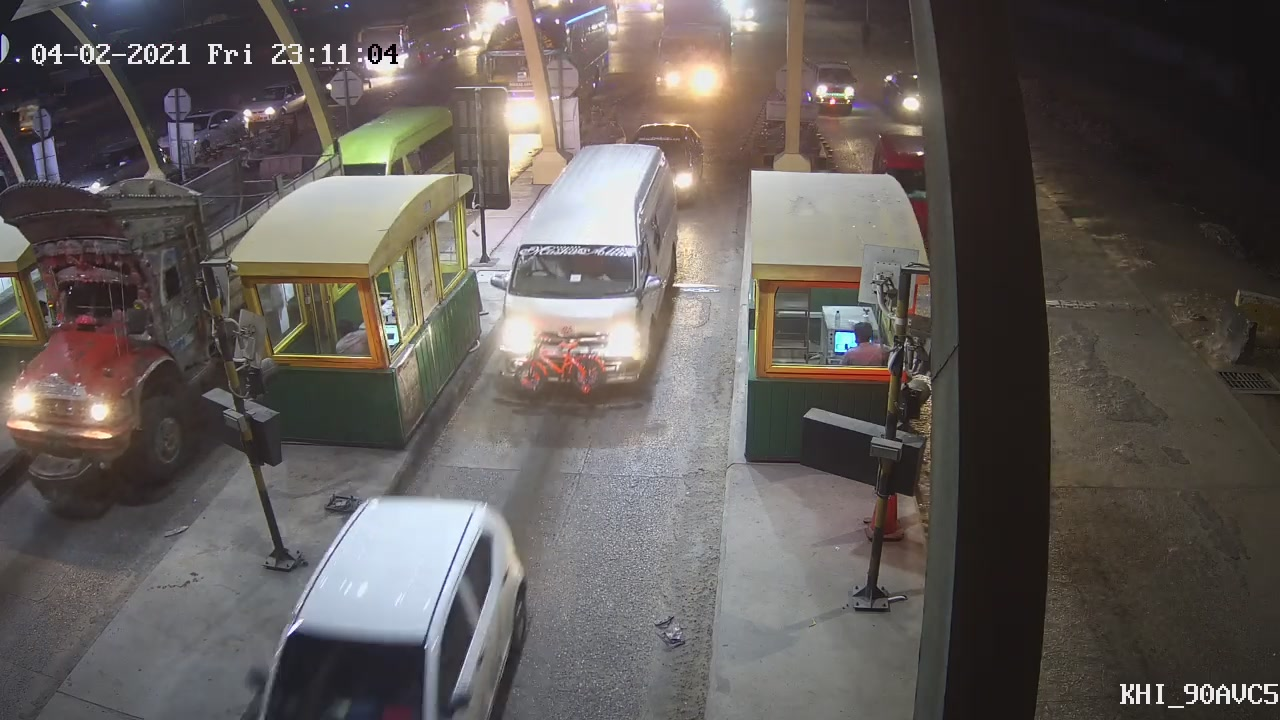F3: (490, 143, 681, 400)
